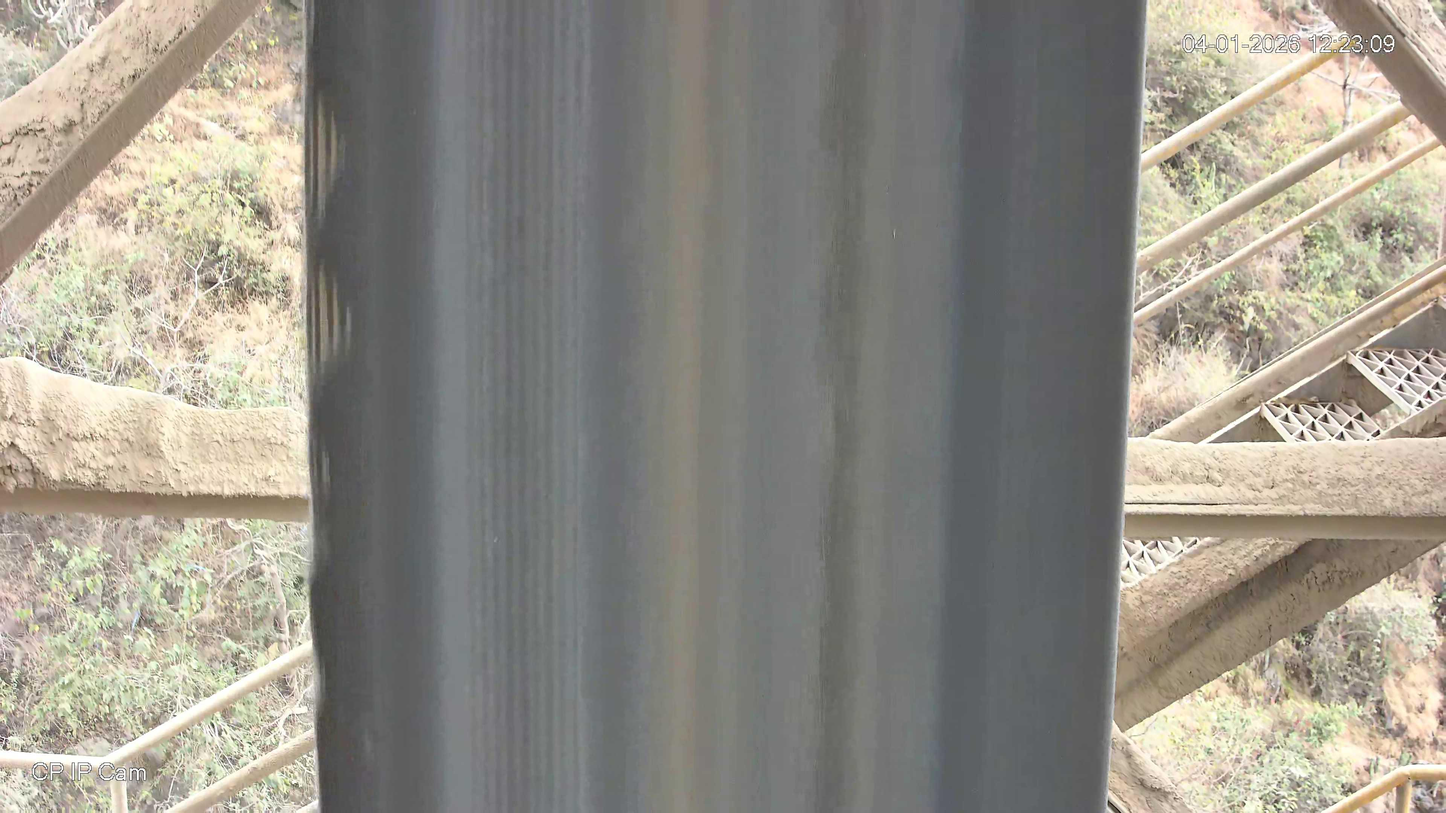belt_roi: (305, 0, 1149, 813)
